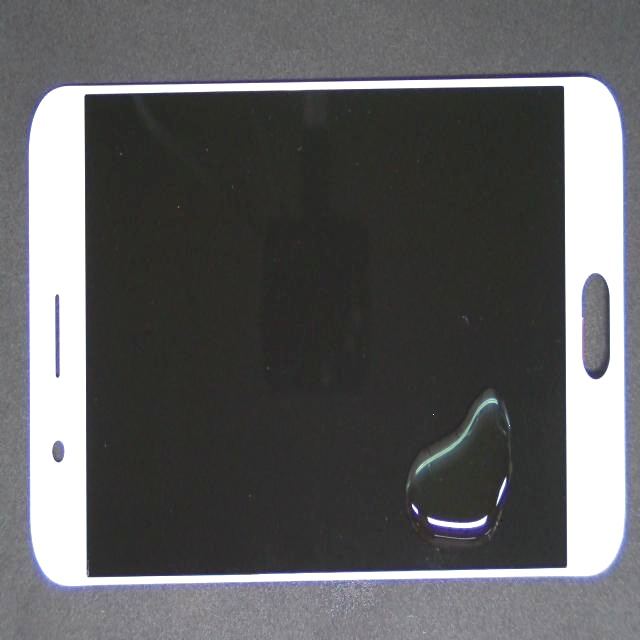oil: (270, 170, 640, 617)
